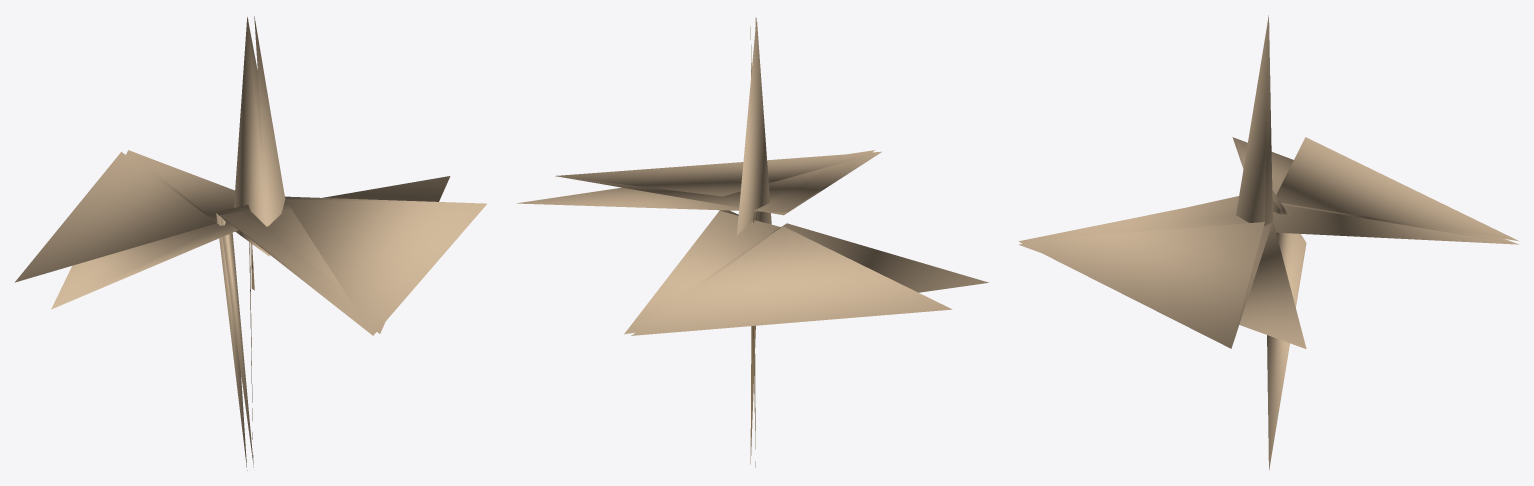
Rendered from equip_weapon_bronze_pickaxe.glb.
3 views of the same model, side by side, from view 1: azimuth 30°, elevation 25°; view 2: azimuth 150°, elevation 25°; view 3: azimuth 270°, elevation 25° (orthographic).
Visible parts, largest first — view 1: equip_weapon_bronze_pickaxe; view 2: equip_weapon_bronze_pickaxe; view 3: equip_weapon_bronze_pickaxe.
Part boxes in pixels (x1,y1,x2,y2): equip_weapon_bronze_pickaxe: (15,16,486,470); equip_weapon_bronze_pickaxe: (517,17,988,467); equip_weapon_bronze_pickaxe: (1019,15,1518,470).
Size of the model in its own units: 2 by 2 by 2.
